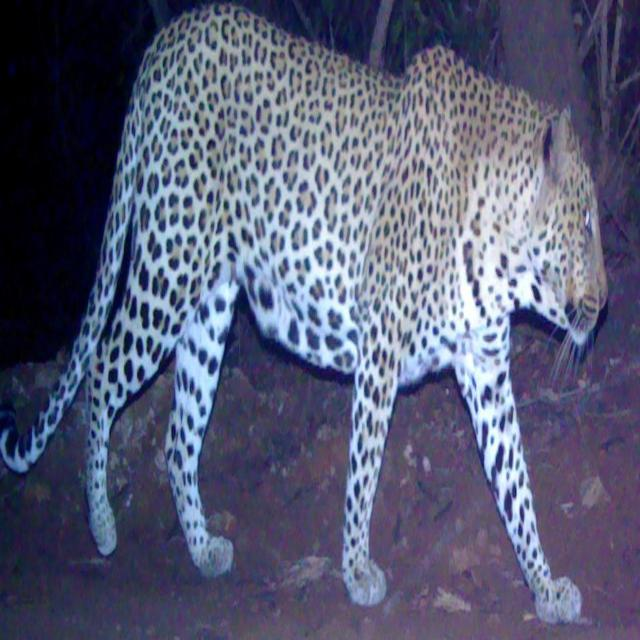Leopard: (14, 36, 611, 640)
